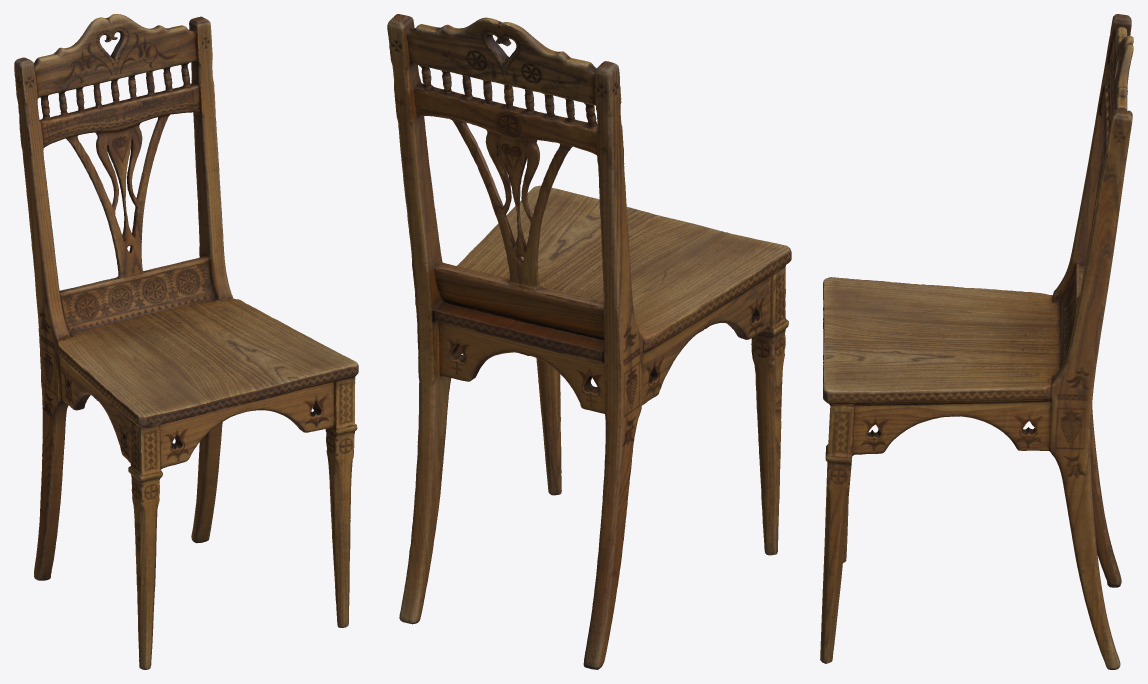
File: chairs-zakopane-style-chair-3f3e5490.glb
3 renders of one model, left to right at view 1: azimuth 30°, elevation 25°; view 2: azimuth 150°, elevation 25°; view 3: azimuth 270°, elevation 25°, orthographic. The views are drawn at different scales.
Parts seen in each view (by area): view 1: Object_3, Object_4; view 2: Object_3, Object_4; view 3: Object_3, Object_4.
Boxes of the visible parts, x1,y1,x2,y2 form: Object_3: (14,14,357,669); Object_4: (14,17,358,668); Object_3: (389,14,791,668); Object_4: (387,16,790,669); Object_3: (820,14,1133,669); Object_4: (820,14,1132,669).
Bounding box in the file's own units: 390 × 915 × 448.
Materials: 1 (1 with a texture image).
